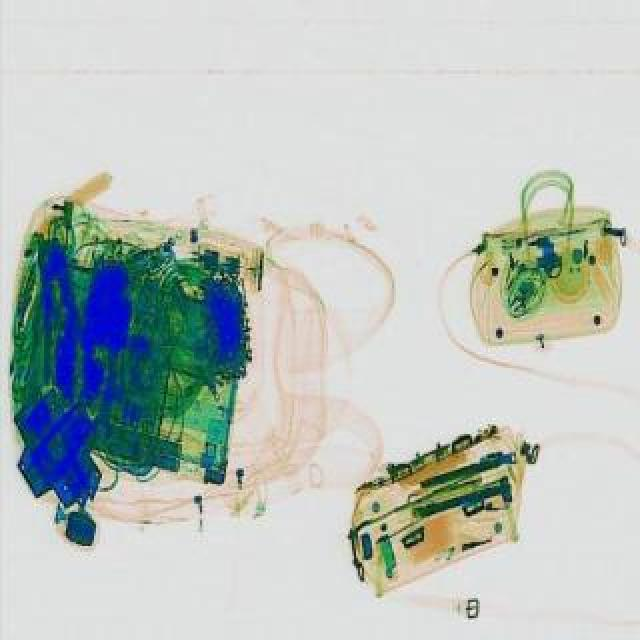scissors: (86, 348, 130, 444)
wrench: (28, 236, 92, 384)
